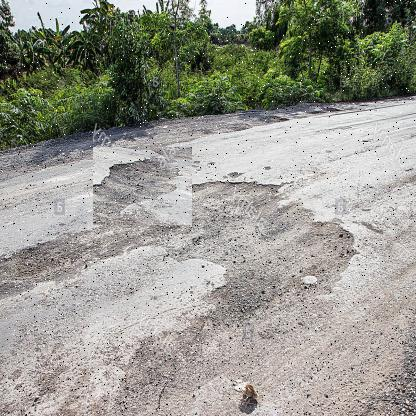damage: (92, 147, 192, 226)
